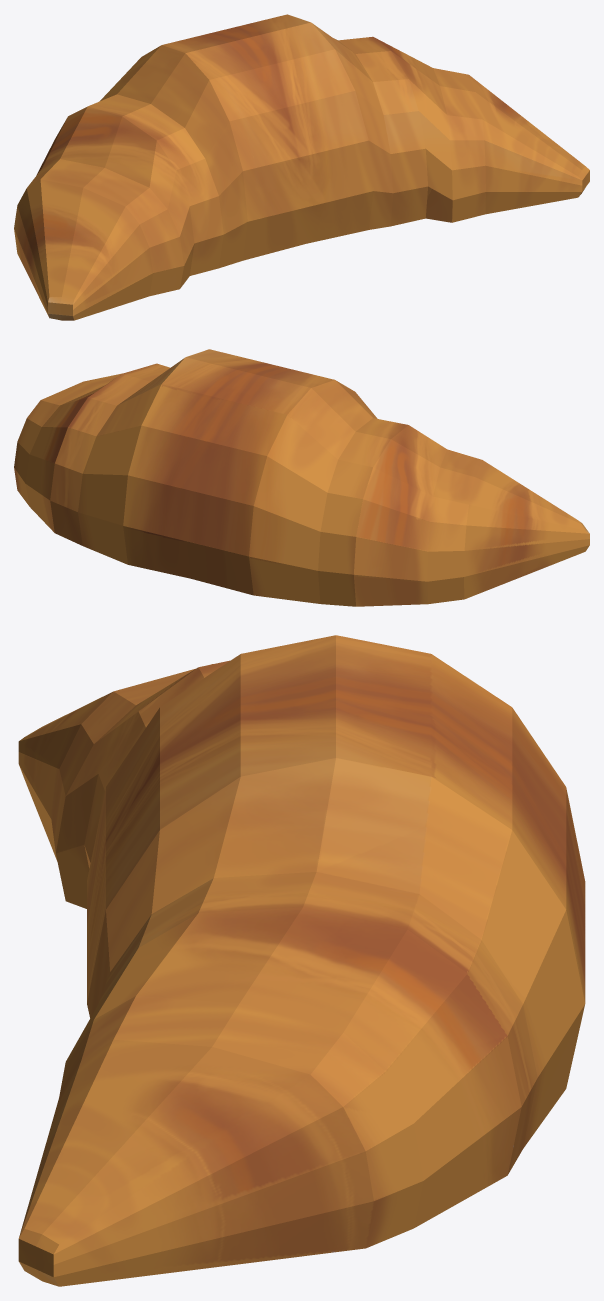
Rendered from croissant3.fbx.
3 views of the same model, one above another, from view 1: azimuth 30°, elevation 25°; view 2: azimuth 150°, elevation 25°; view 3: azimuth 270°, elevation 25° (orthographic). The views are drawn at different scales.
Visible parts, largest first — view 1: Cylinder; view 2: Cylinder; view 3: Cylinder.
Part boxes in pixels (x1,y1,x2,y2): Cylinder: [14, 14, 589, 320]; Cylinder: [14, 349, 589, 606]; Cylinder: [18, 635, 585, 1286].
Size of the model in its own units: 502 by 156 by 227.
